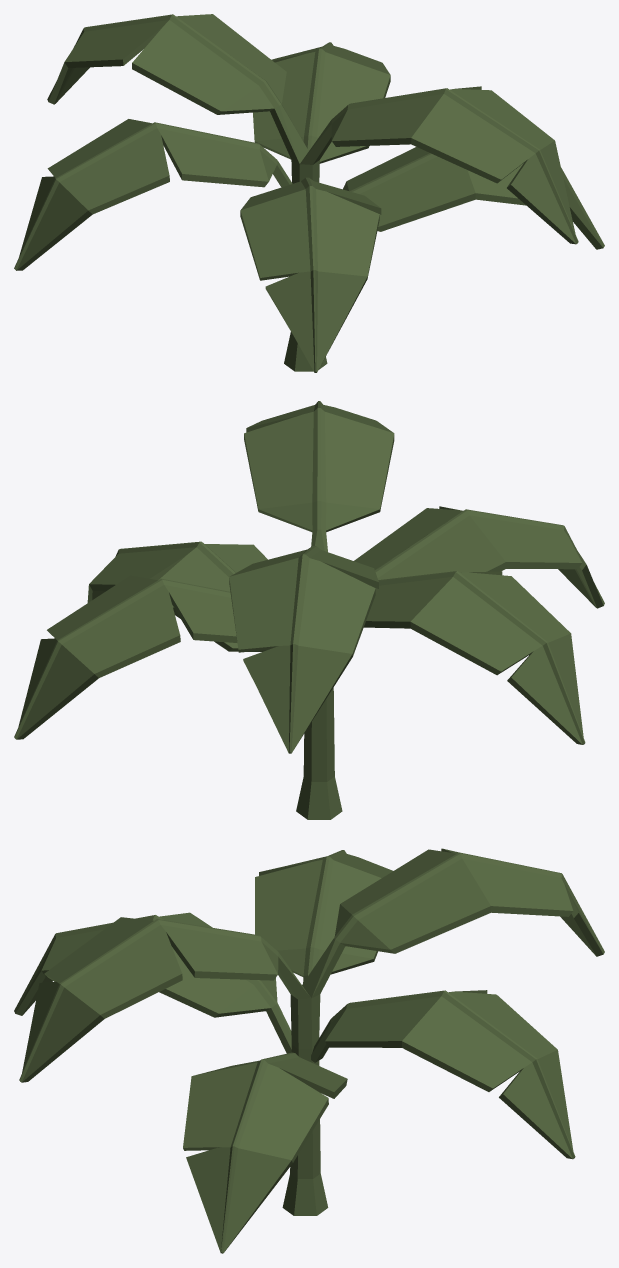
Rendered from SM_Envr_Nature_Plant_06.fbx.
The picture shows the model from 3 angles, top to bottom: view 1: azimuth 30°, elevation 25°; view 2: azimuth 150°, elevation 25°; view 3: azimuth 270°, elevation 25°; orthographic projection. The views are drawn at different scales.
Parts seen in each view (by area): view 1: SM_Envr_Nature_Plant_06; view 2: SM_Envr_Nature_Plant_06; view 3: SM_Envr_Nature_Plant_06.
Boxes of the visible parts, x1,y1,x2,y2 form: SM_Envr_Nature_Plant_06: [14, 14, 604, 372]; SM_Envr_Nature_Plant_06: [14, 401, 604, 819]; SM_Envr_Nature_Plant_06: [14, 848, 604, 1253].
Bounding box in the file's own units: 271 × 151 × 250.
